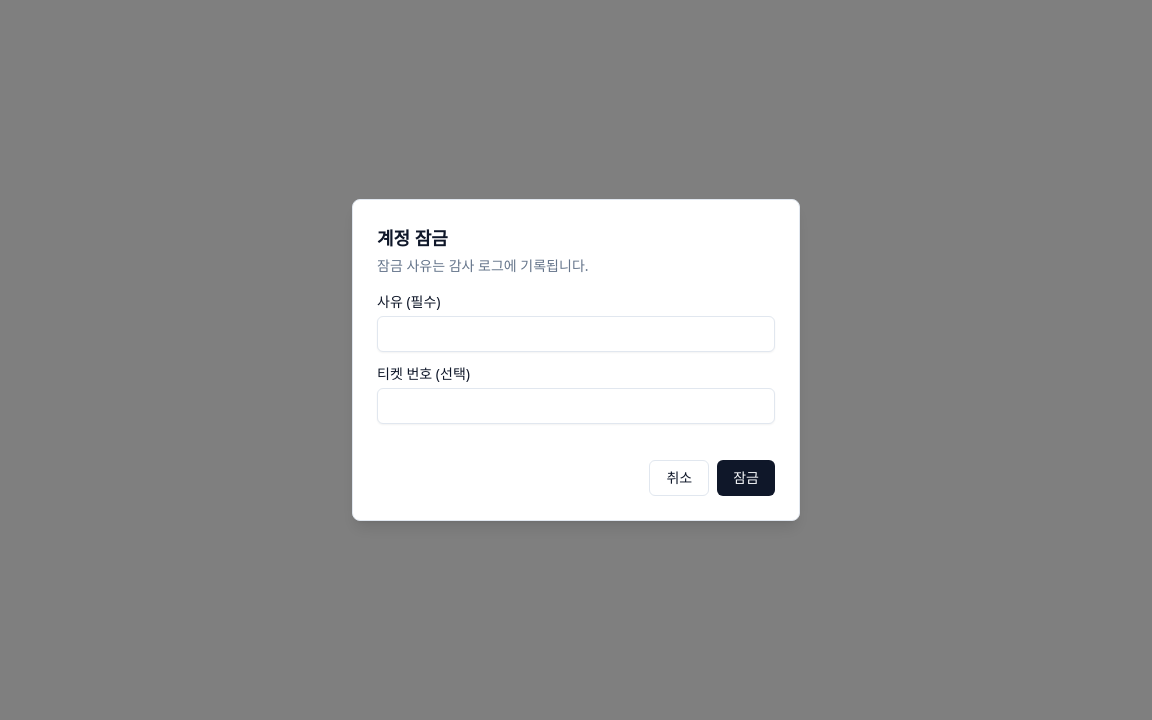
Test: LockDialog › requires a reason before submitting
What coordinates should you click on to do the following:
click the button "잠금"
I would click on:
 (746, 478)
Its box is [717, 460, 775, 496].
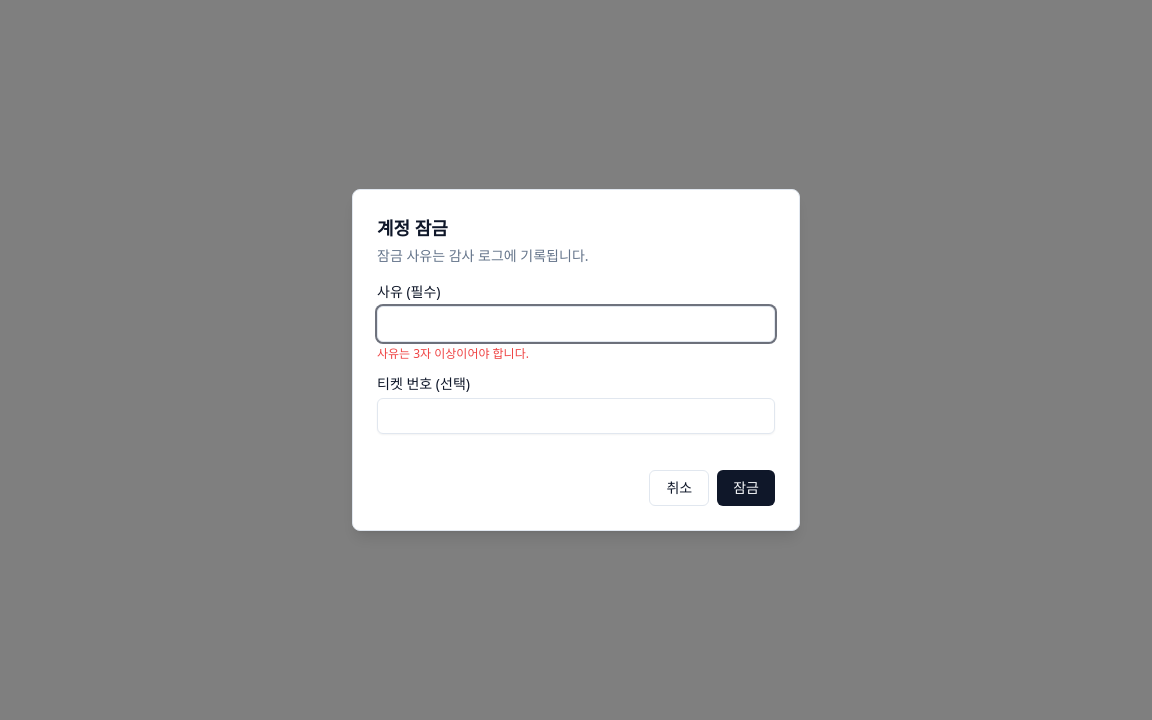
Expected: the message "사유는 3자 이상이어야 합니다." is shown, [377, 345, 529, 362]
